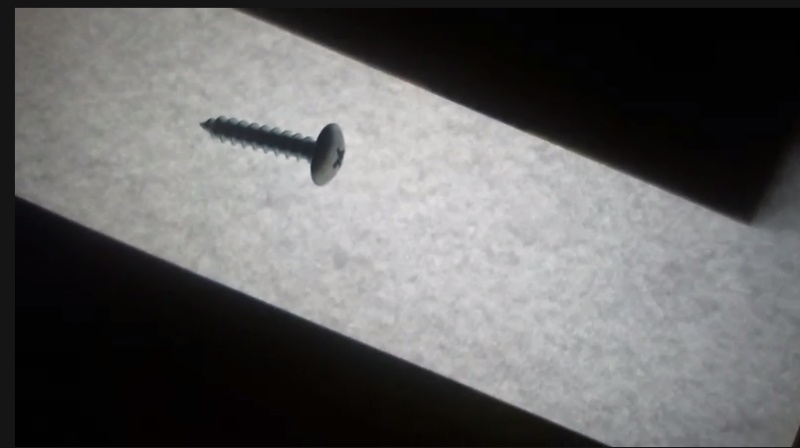S003: (195, 112, 349, 190)
